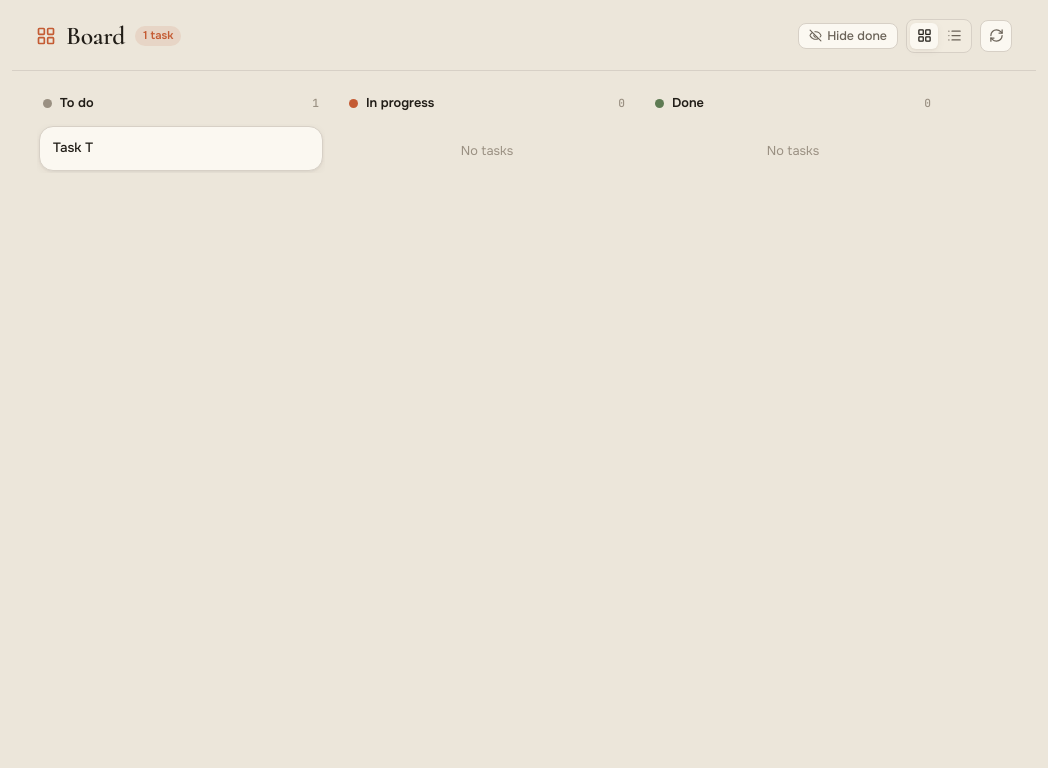
Test case: BoardView — переключатель представления (VIEW-1) › клик по строке списка открывает превью (TaskPeek) — peek работает в обоих режимах
Check: the text "Task T" is shown, box [53,140,93,158]
Click the button named "List". click: (954, 36)
box: [940,23,968,49]
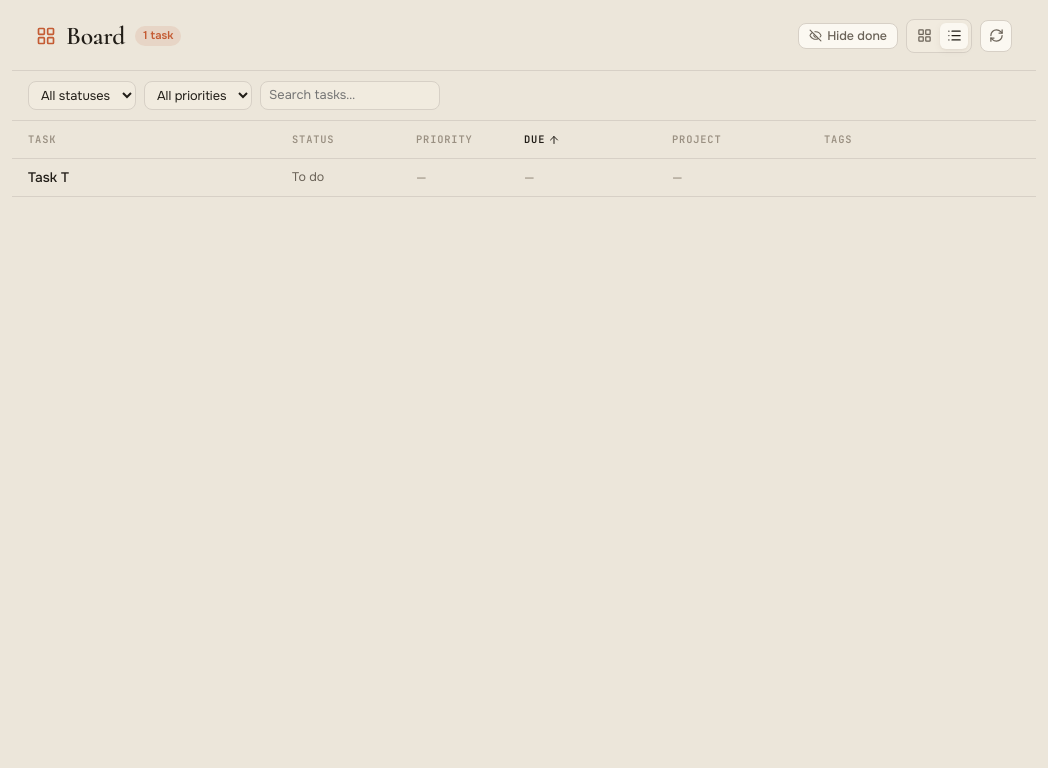
Click the button "Task T To do — — —". click: (524, 178)
box: [12,159,1036,197]
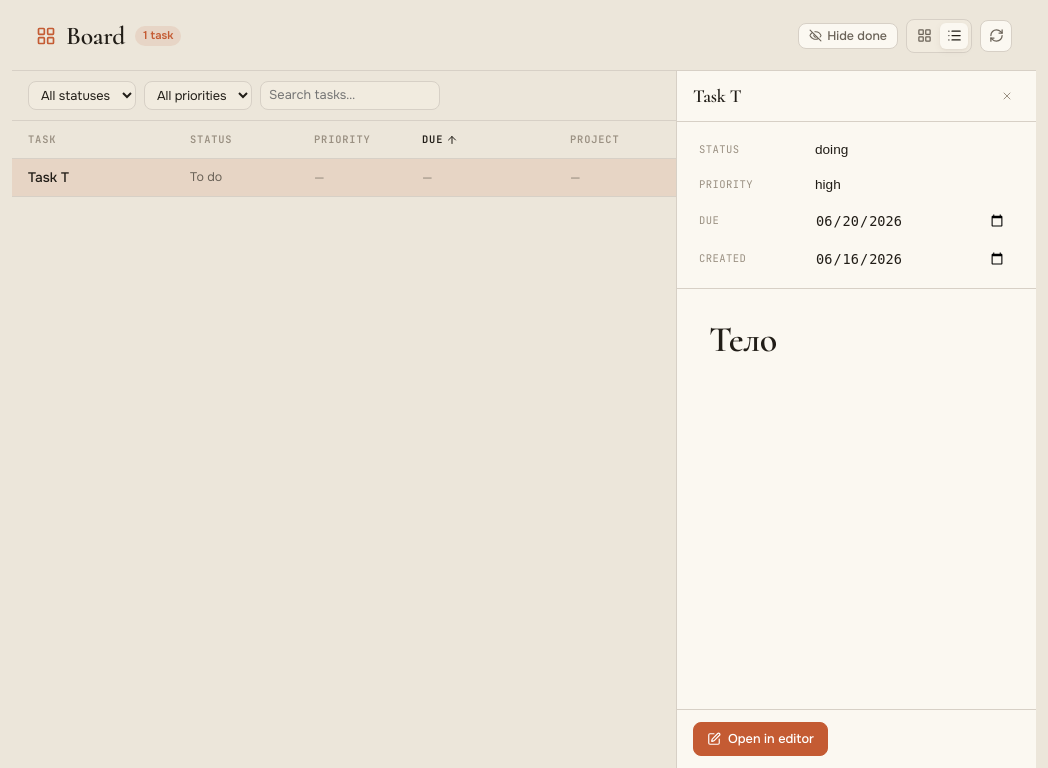
Check: the element named "Task preview" is shown, box [676,71,1036,767]
